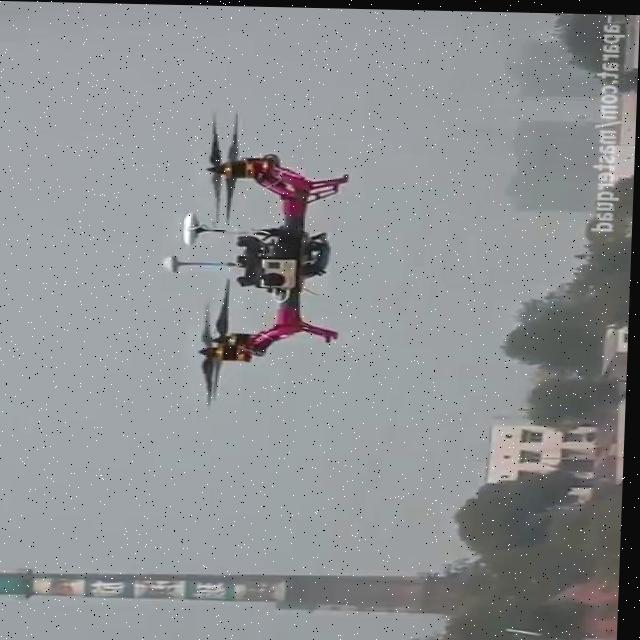drone: (157, 102, 356, 409)
